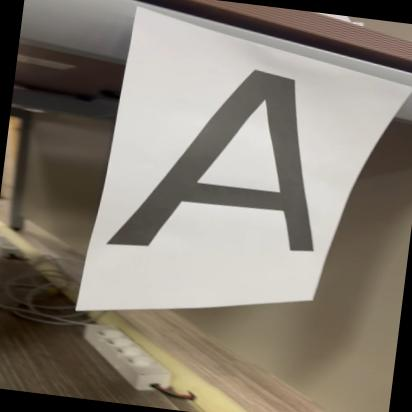seat: (113, 50, 350, 276)
